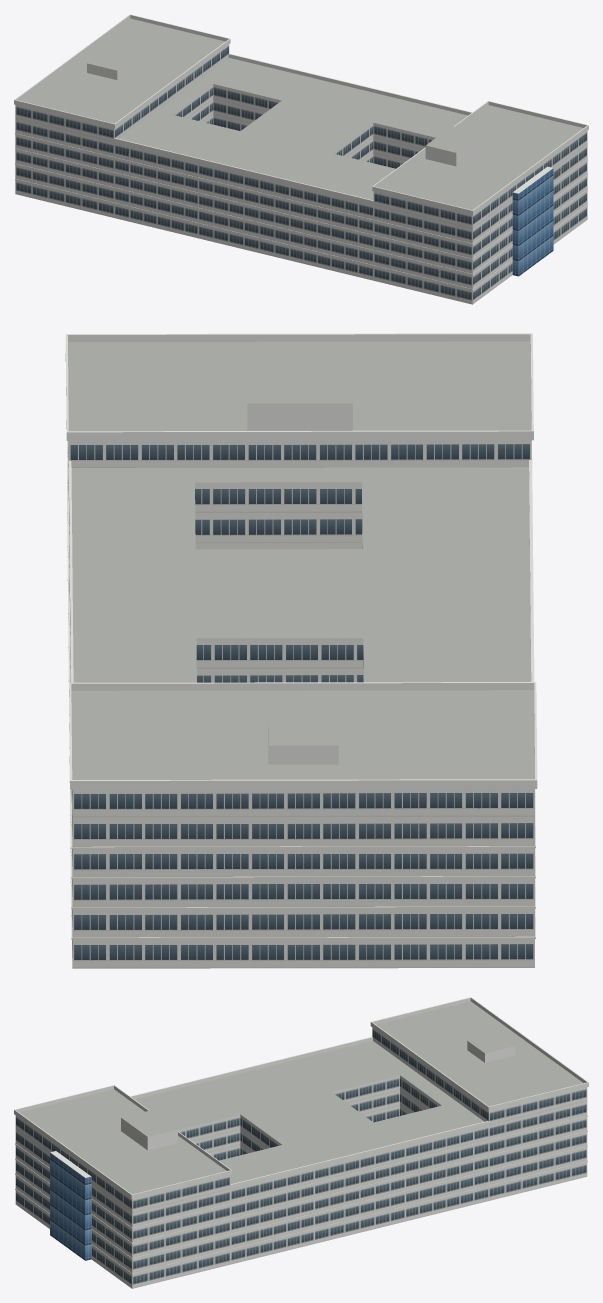
File: lanjianglou.glb
3 views of the same model, one above another, from view 1: azimuth 30°, elevation 25°; view 2: azimuth 150°, elevation 25°; view 3: azimuth 270°, elevation 25° (orthographic). The views are drawn at different scales.
Visible parts, largest first — view 1: 揽江楼; view 2: 揽江楼; view 3: 揽江楼.
Boxes of the visible parts, left/top/right/bottom form: 揽江楼: left=14, top=14, right=588, bottom=304; 揽江楼: left=65, top=333, right=537, bottom=968; 揽江楼: left=14, top=997, right=588, bottom=1288.
Size of the model in its own units: 107 by 26.2 by 131.
4 materials, 2 textured.
